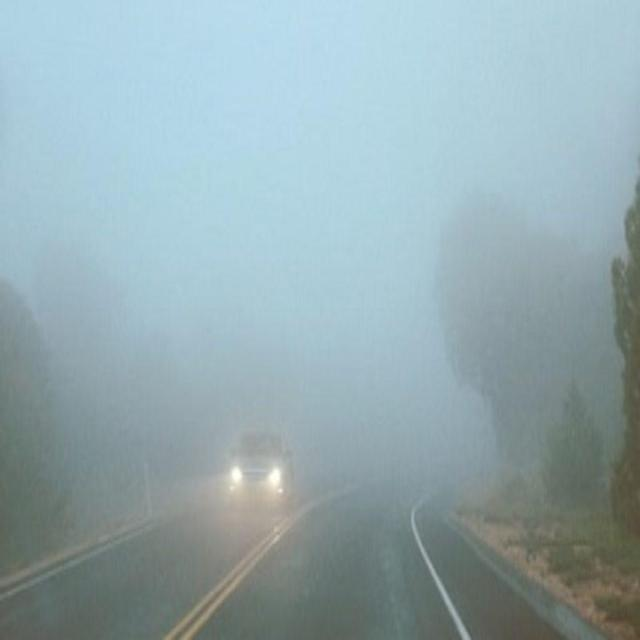Car: (227, 426, 297, 512)
